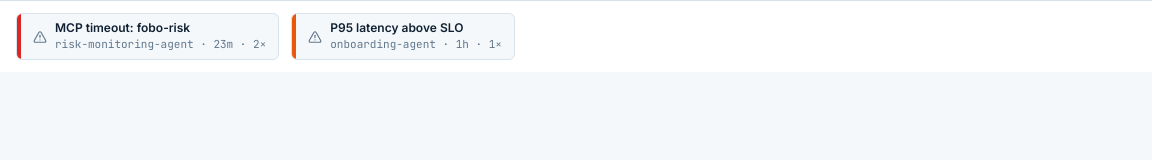
IncidentStrip › expands a chip when clicked and collapses on second click
The image size is (1152, 160).
Click the button with test id "incident-chip" at (148, 36), box [16,13,279,60]
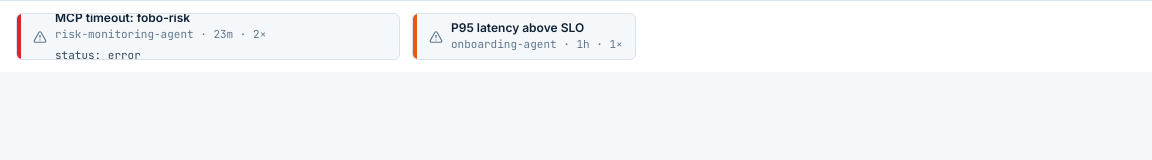
Now the button with test id "incident-chip" has attribute data-expanded="true"
Click the button with test id "incident-chip" at (208, 36), box [16,13,400,60]
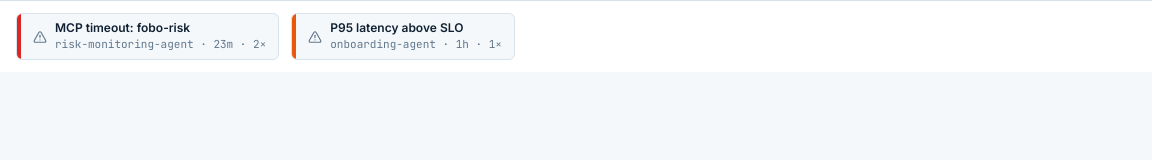
Now the button with test id "incident-chip" has attribute data-expanded="false", box [16,13,279,60]
